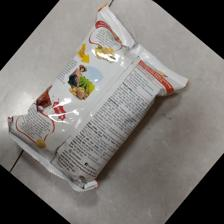Lays: (6, 5, 193, 194)
